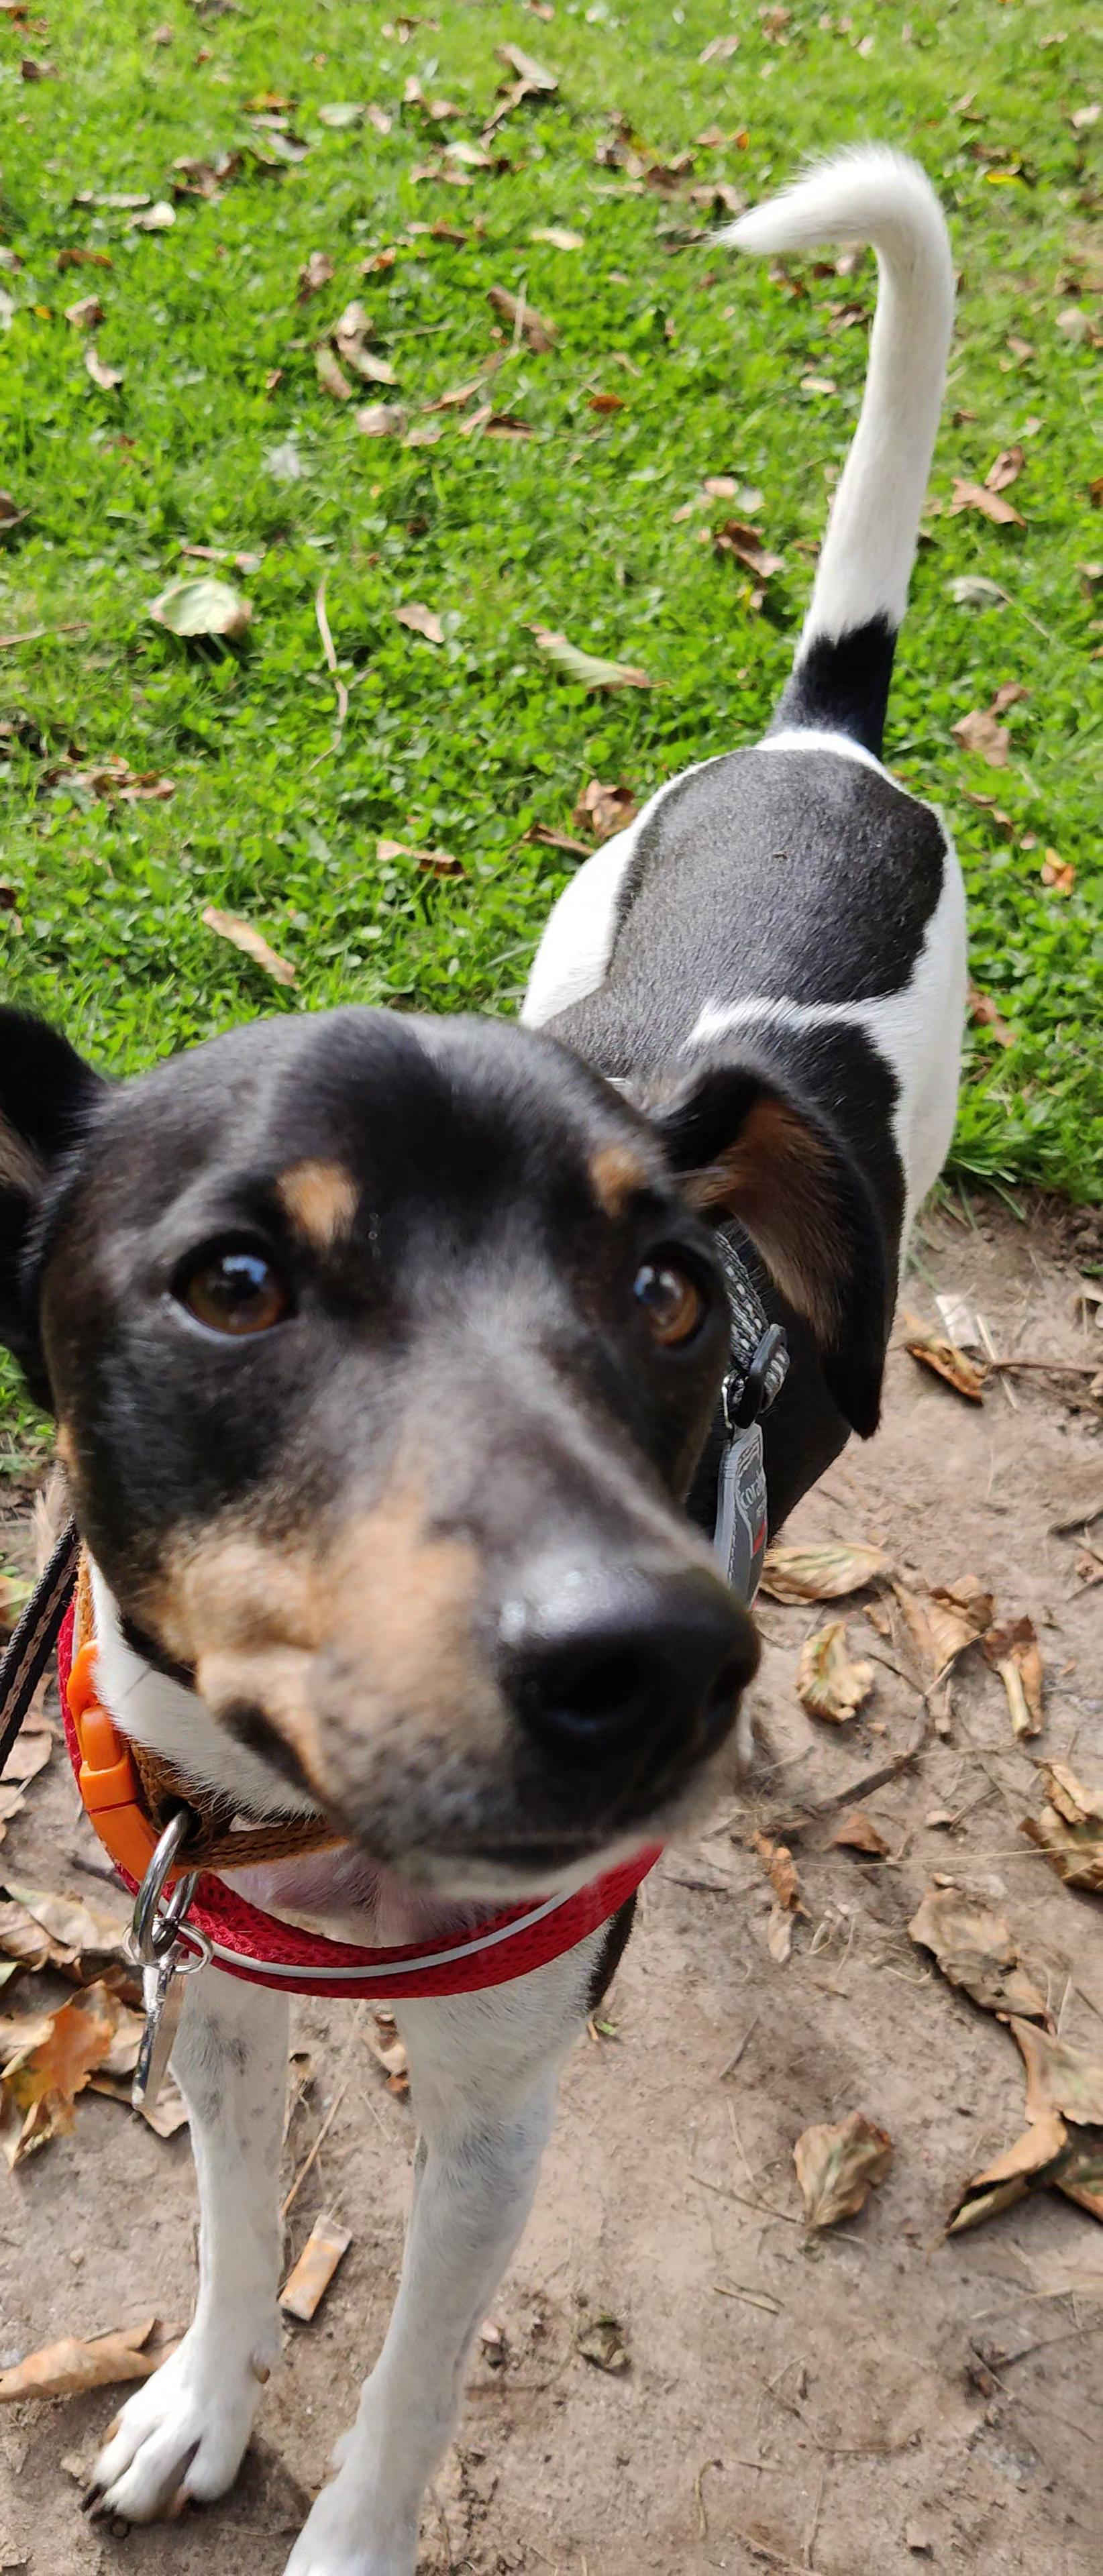Dog: (0, 110, 985, 2576)
